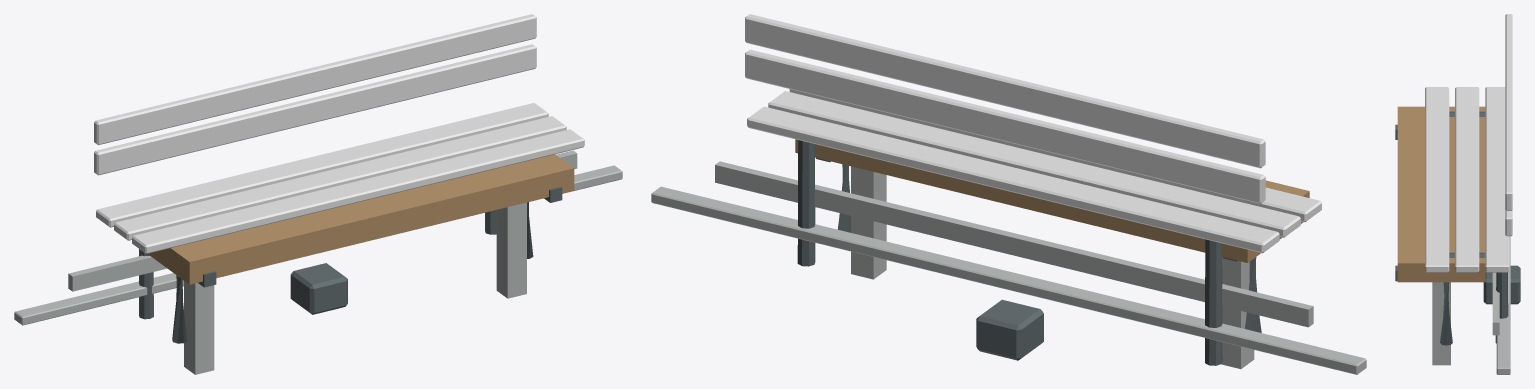
File: Module_Shelter_Bench.fbx
The picture shows the model from 3 angles, left to right: view 1: azimuth 30°, elevation 25°; view 2: azimuth 150°, elevation 25°; view 3: azimuth 270°, elevation 25°; orthographic projection. The views are drawn at different scales.
Parts seen in each view (by area): view 1: Module_Shelter_Bench__LPCXFER; view 2: Module_Shelter_Bench__LPCXFER; view 3: Module_Shelter_Bench__LPCXFER.
Part boxes in pixels (x1,y1,x2,y2): Module_Shelter_Bench__LPCXFER: [14, 14, 622, 374]; Module_Shelter_Bench__LPCXFER: [651, 14, 1366, 374]; Module_Shelter_Bench__LPCXFER: [1395, 14, 1520, 374].
Bounding box in the file's own units: 250 × 92.5 × 54.
